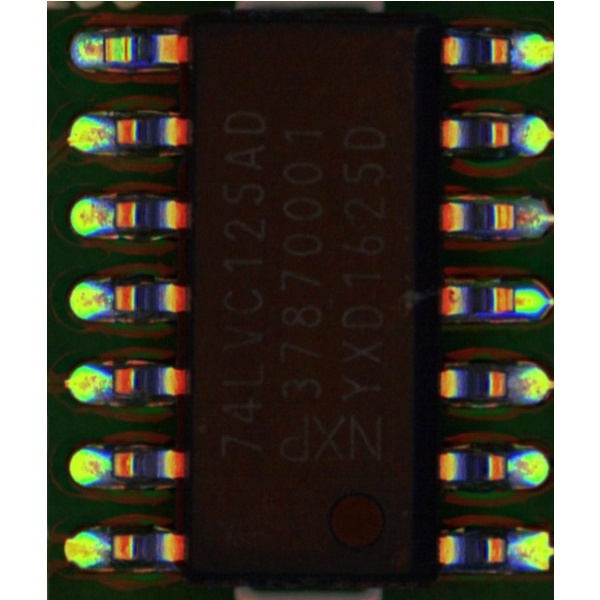Bad_podu: (86, 37, 119, 59), (508, 288, 524, 311)
